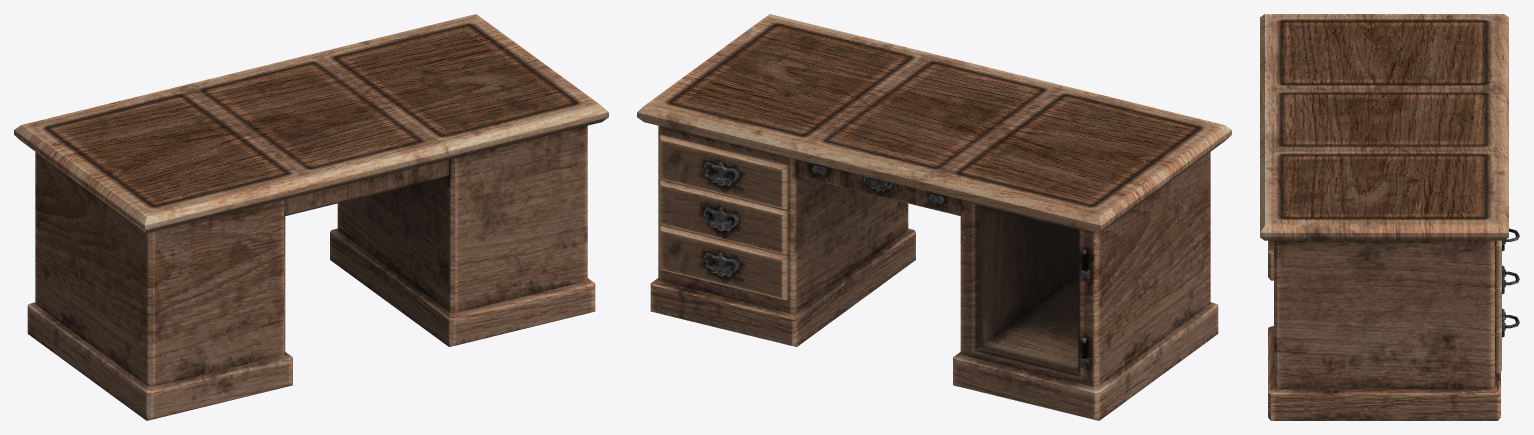
File: work_desk.dae
3 views of the same model, side by side, from view 1: azimuth 30°, elevation 25°; view 2: azimuth 150°, elevation 25°; view 3: azimuth 270°, elevation 25° (orthographic). The views are drawn at different scales.
Visible parts, largest first — view 1: work_desk_table_mesh; view 2: work_desk_table_mesh, work_desk_drawer03_me, work_desk_drawer01_me, work_desk_drawer02_me; view 3: work_desk_table_mesh, work_desk_drawer02_me, work_desk_drawer03_me, work_desk_drawer01_me.
Boxes of the visible parts, x1=… form: work_desk_table_mesh: x1=14, y1=14, x2=608, y2=420; work_desk_table_mesh: x1=637, y1=14, x2=1231, y2=420; work_desk_drawer03_me: x1=659, y1=225, x2=787, y2=300; work_desk_drawer01_me: x1=659, y1=134, x2=787, y2=209; work_desk_drawer02_me: x1=659, y1=180, x2=787, y2=254; work_desk_table_mesh: x1=1260, y1=14, x2=1508, y2=420; work_desk_drawer02_me: x1=1495, y1=265, x2=1519, y2=330; work_desk_drawer03_me: x1=1495, y1=308, x2=1519, y2=373; work_desk_drawer01_me: x1=1495, y1=228, x2=1519, y2=287.
Bounding box in the file's own units: 2.34 × 1.2 × 1.
1 material, 1 textured.
